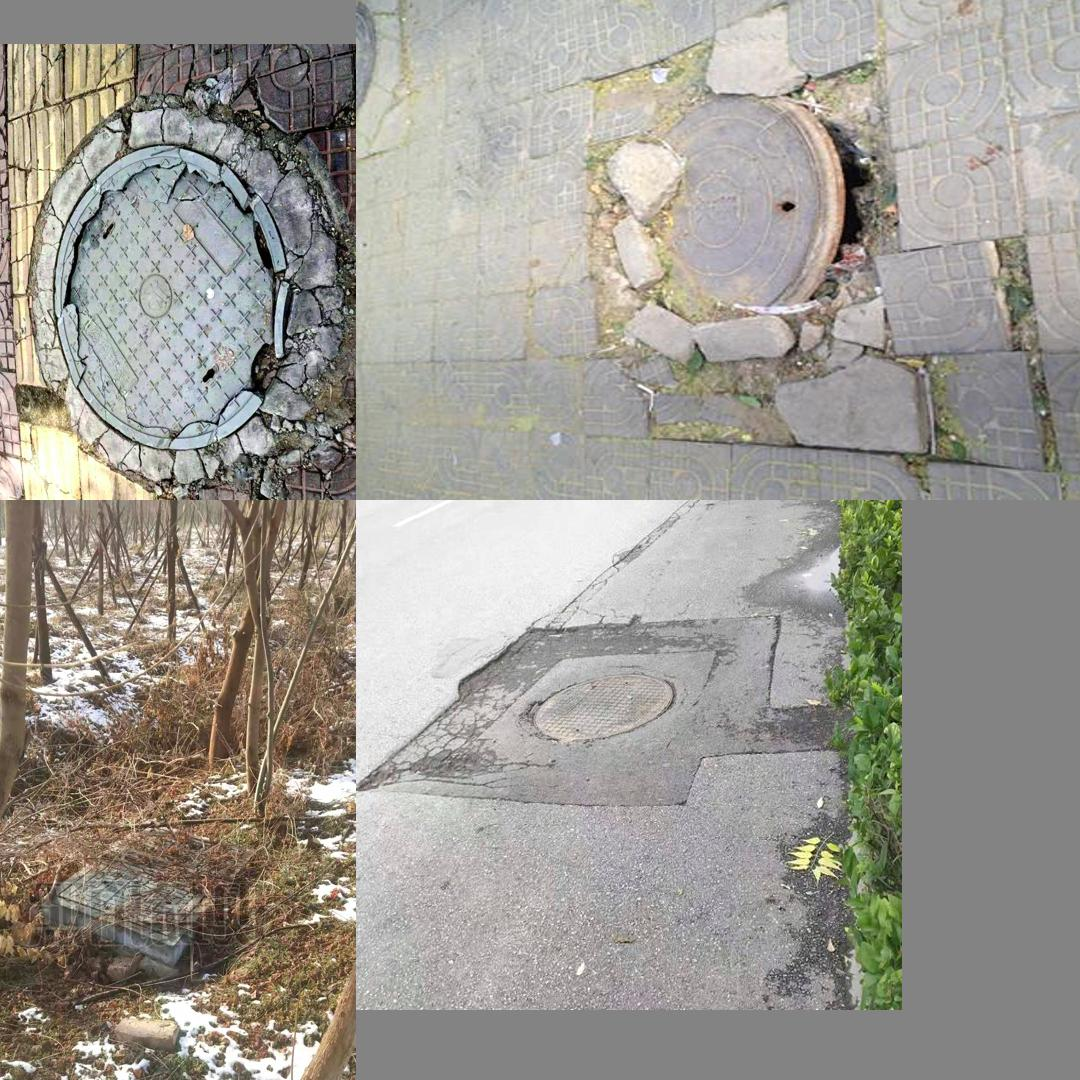circle: (581, 61, 933, 458), (20, 96, 336, 479), (424, 636, 768, 800), (37, 819, 254, 972)
